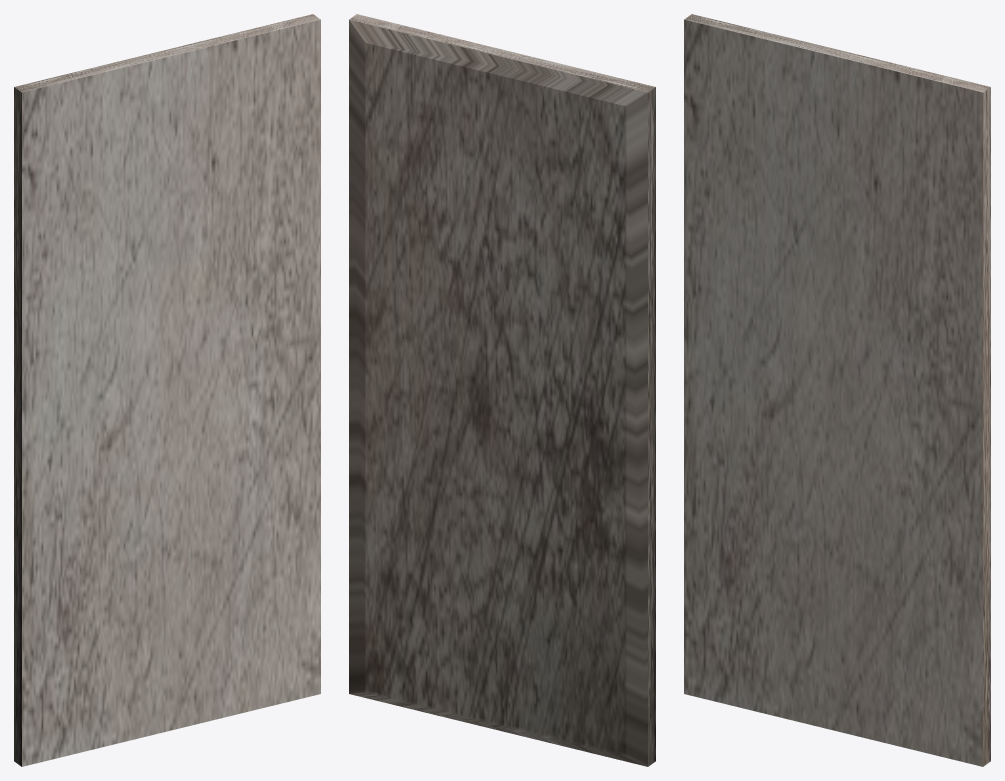
File: SceneDoor.fbx
3 renders of one model, left to right at view 1: azimuth 30°, elevation 25°; view 2: azimuth 150°, elevation 25°; view 3: azimuth 330°, elevation 25°, orthographic.
Parts seen in each view (by area): view 1: polySurface140; view 2: polySurface140; view 3: polySurface140.
Part boxes in pixels (left/top/right/bottom): polySurface140: left=14, top=14, right=320, bottom=766; polySurface140: left=349, top=14, right=655, bottom=766; polySurface140: left=684, top=14, right=990, bottom=766.
Size of the model in its own units: 71.72 by 155 by 4.39.
